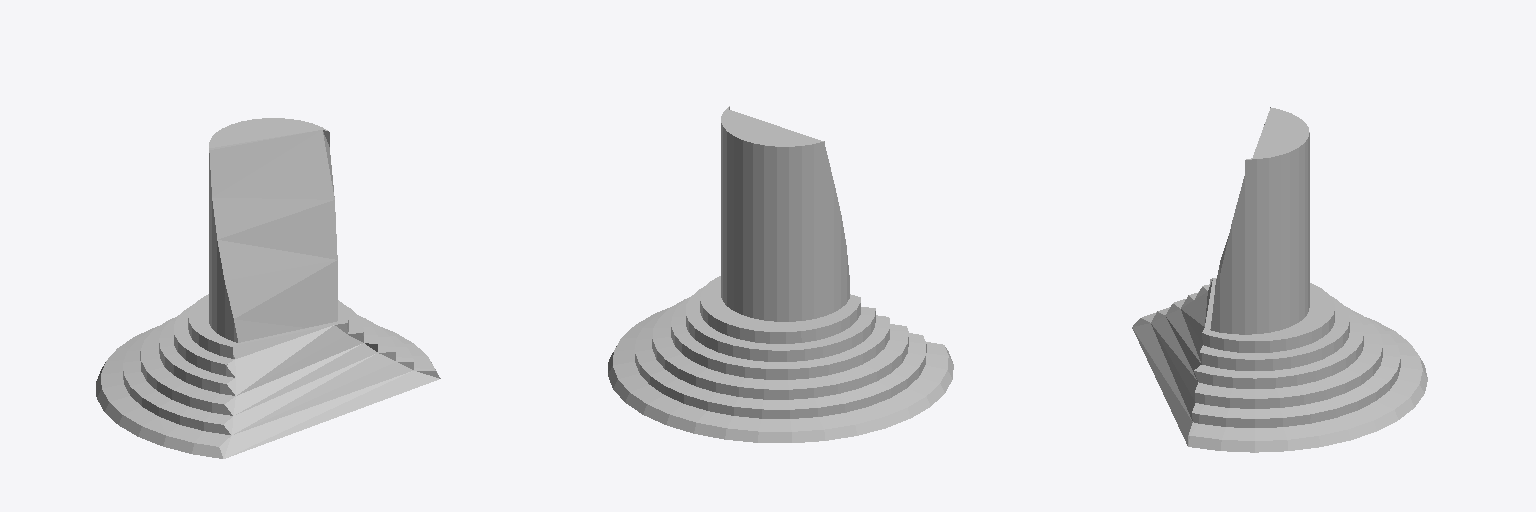
Rendered from dharaharaSmall.obj.
3 views of the same model, side by side, from view 1: azimuth 30°, elevation 25°; view 2: azimuth 150°, elevation 25°; view 3: azimuth 270°, elevation 25° (orthographic).
Parts seen in each view (by area): view 1: joinedDharaharaHalf_Cylinder.008; view 2: joinedDharaharaHalf_Cylinder.008; view 3: joinedDharaharaHalf_Cylinder.008.
Boxes of the visible parts, <box> form: joinedDharaharaHalf_Cylinder.008: <box>96,118,440,458</box>; joinedDharaharaHalf_Cylinder.008: <box>608,106,953,442</box>; joinedDharaharaHalf_Cylinder.008: <box>1132,107,1427,452</box>.
Bounding box in the file's own units: 1 × 0.7887 × 0.8569.